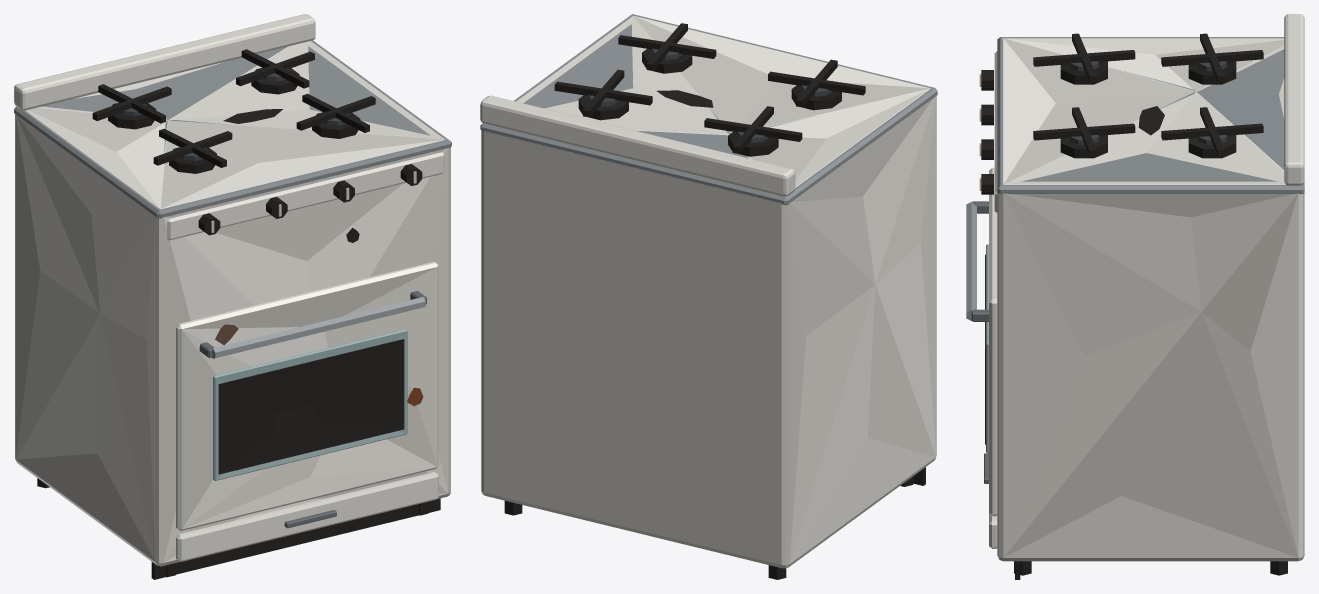
Rendered from stove_cook_gazovaya_idle.glb.
3 renders of one model, left to right at view 1: azimuth 30°, elevation 25°; view 2: azimuth 150°, elevation 25°; view 3: azimuth 270°, elevation 25°, orthographic. The views are drawn at different scales.
Visible parts, largest first — view 1: stove_cook_gazovaya_idle; view 2: stove_cook_gazovaya_idle; view 3: stove_cook_gazovaya_idle.
Part boxes in pixels (<box>): stove_cook_gazovaya_idle: <box>14,14,451,579</box>; stove_cook_gazovaya_idle: <box>480,14,937,579</box>; stove_cook_gazovaya_idle: <box>966,14,1304,579</box>.
Bounding box in the file's own units: 0.7 × 0.9 × 0.6604.
1 material, 1 textured.
